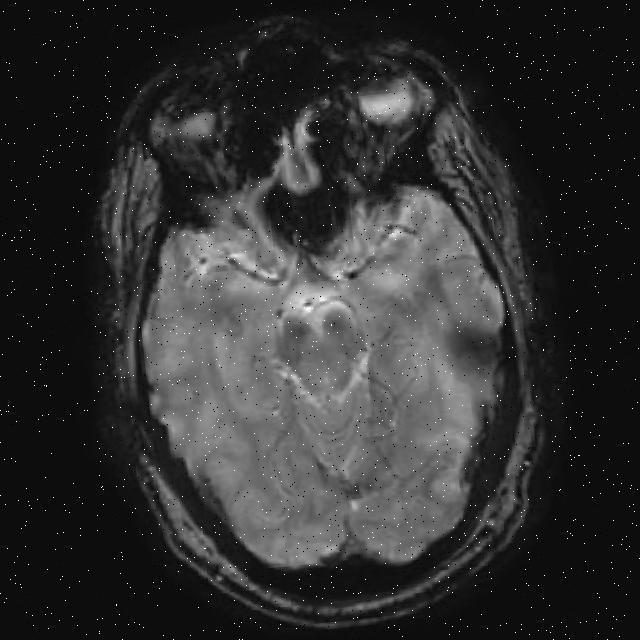MCI: (425, 302, 518, 396), (244, 182, 358, 256)
